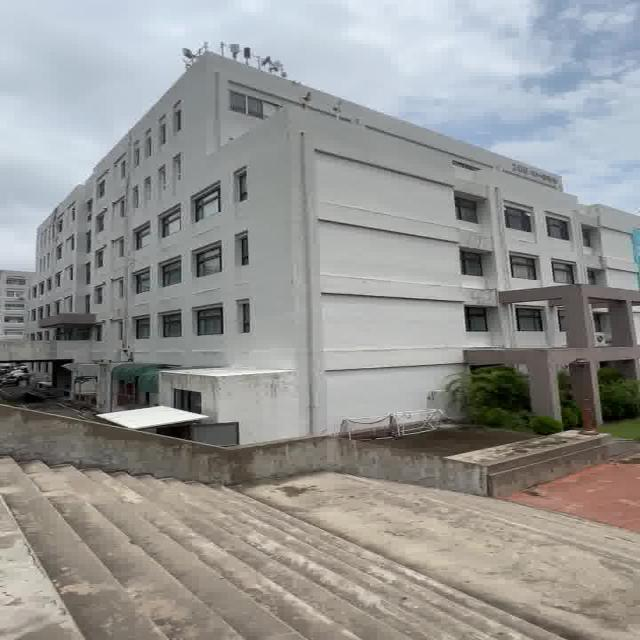building: (32, 52, 640, 434)
